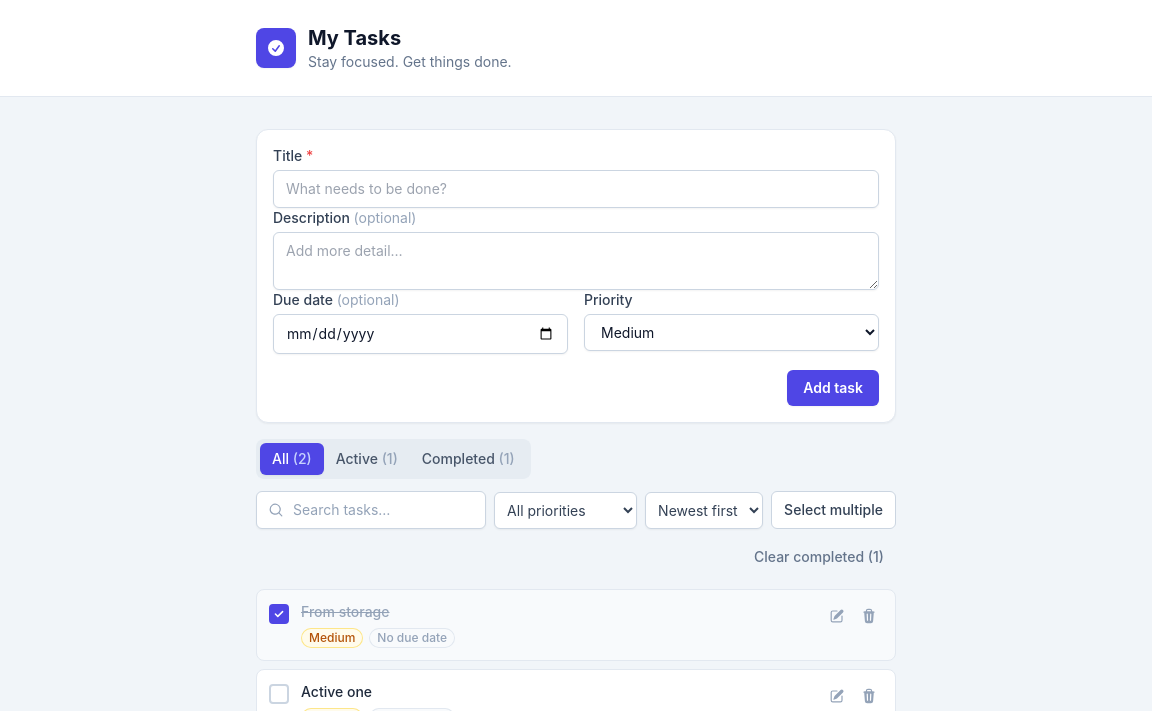
it: App › clears completed after confirmation
Click the button "Clear completed (1)" at (819, 557), box [742,541,896,573]
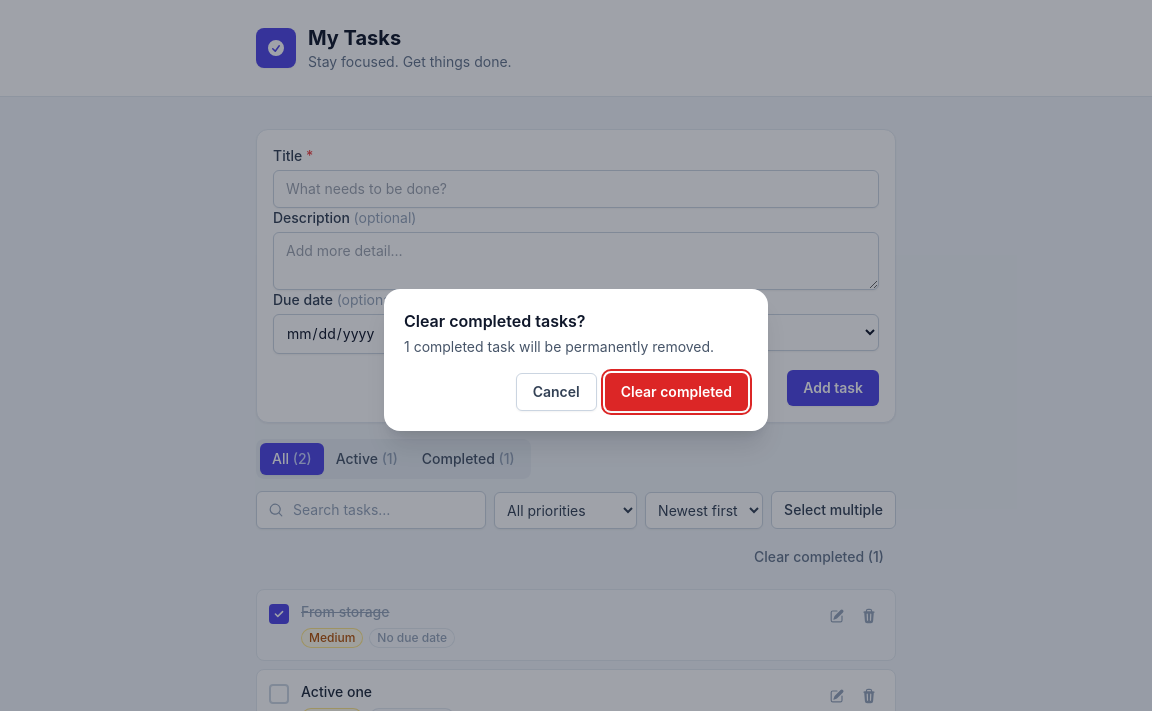
Click the button "Clear completed" at (676, 392), box [605,373,748,411]
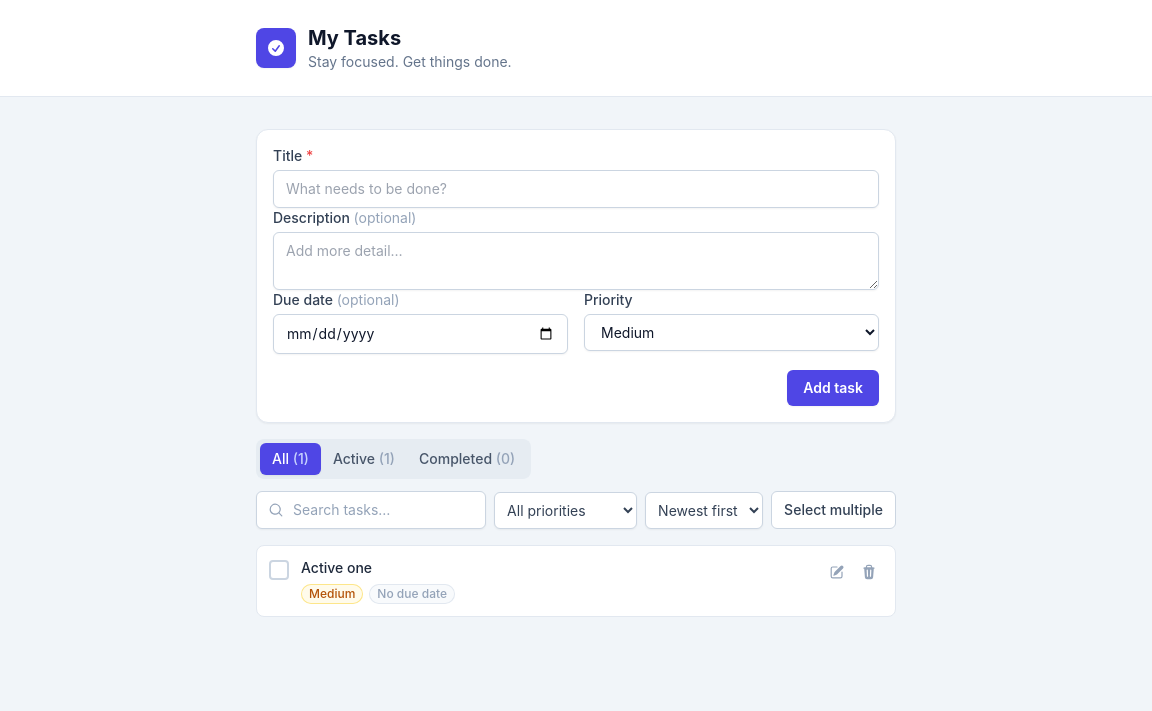
Expected: the text "Active one" is shown, [301,559,372,576]
Now the text "From storage" is gone
